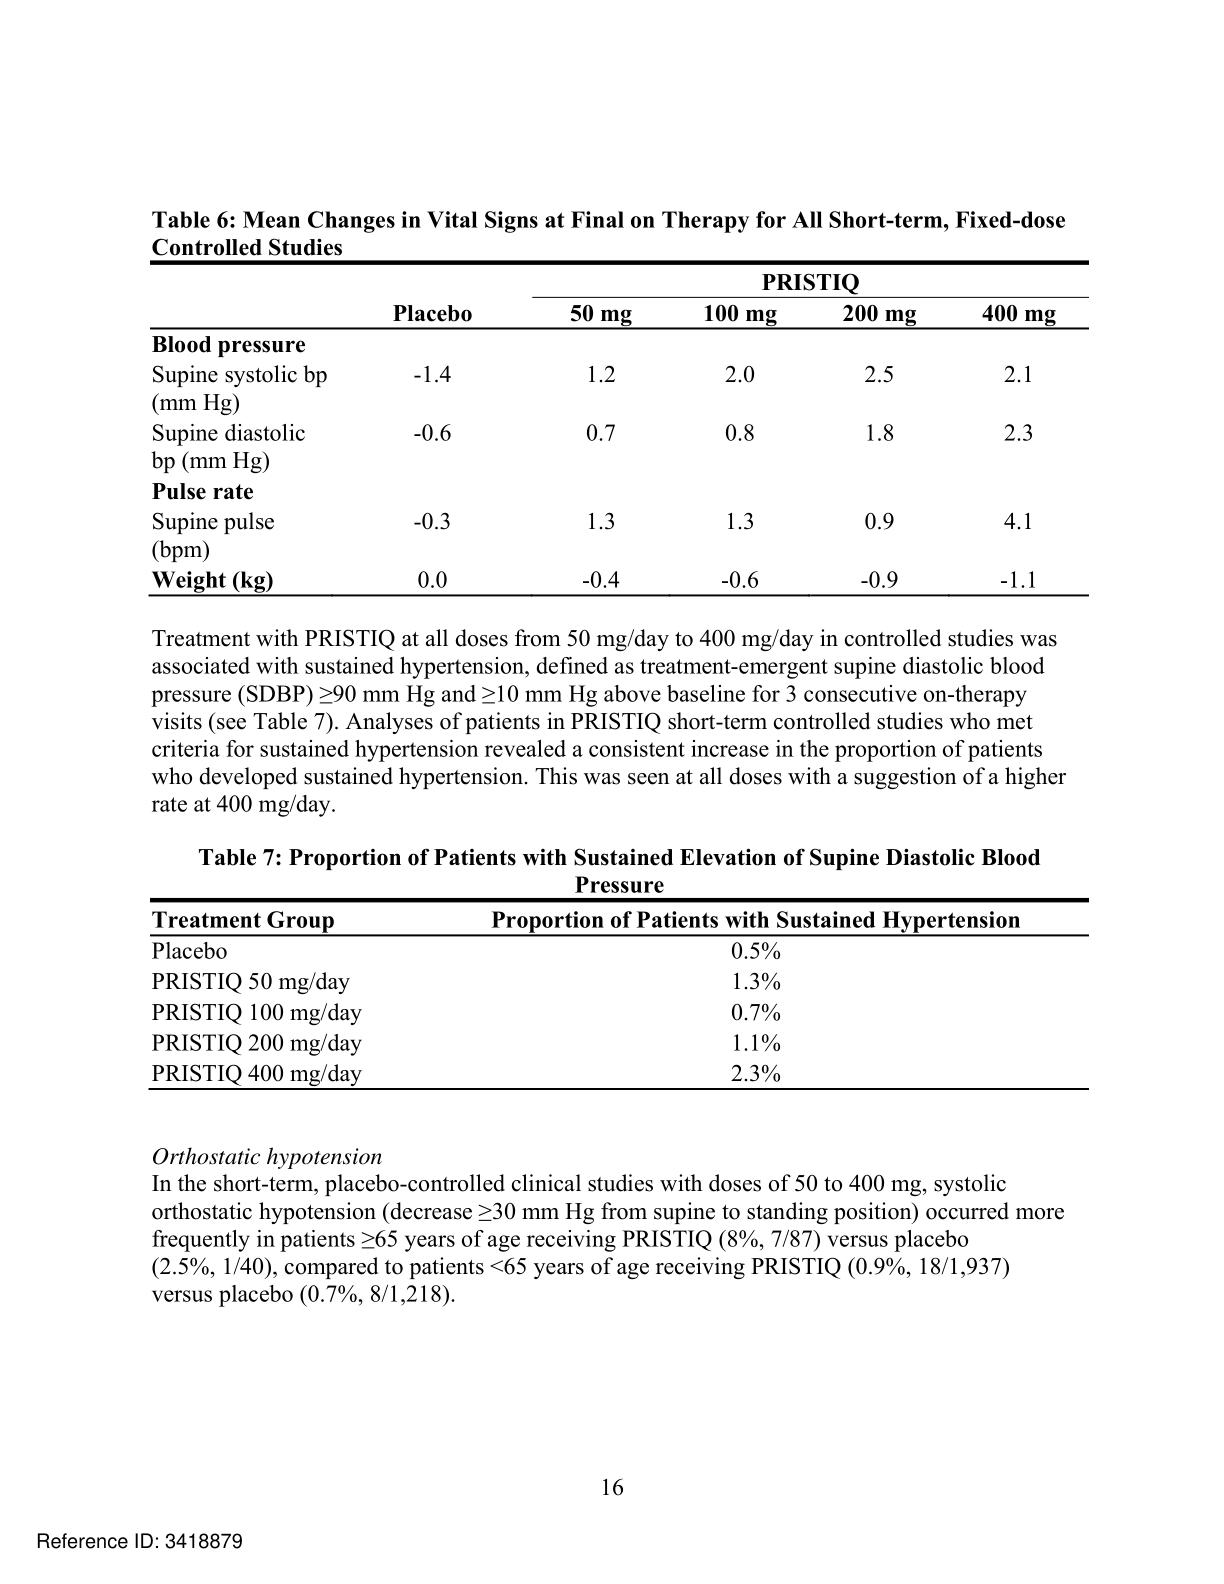partial_lined: (149, 896, 1090, 1092)
partial_lined_merged_cells: (147, 258, 1090, 597)
